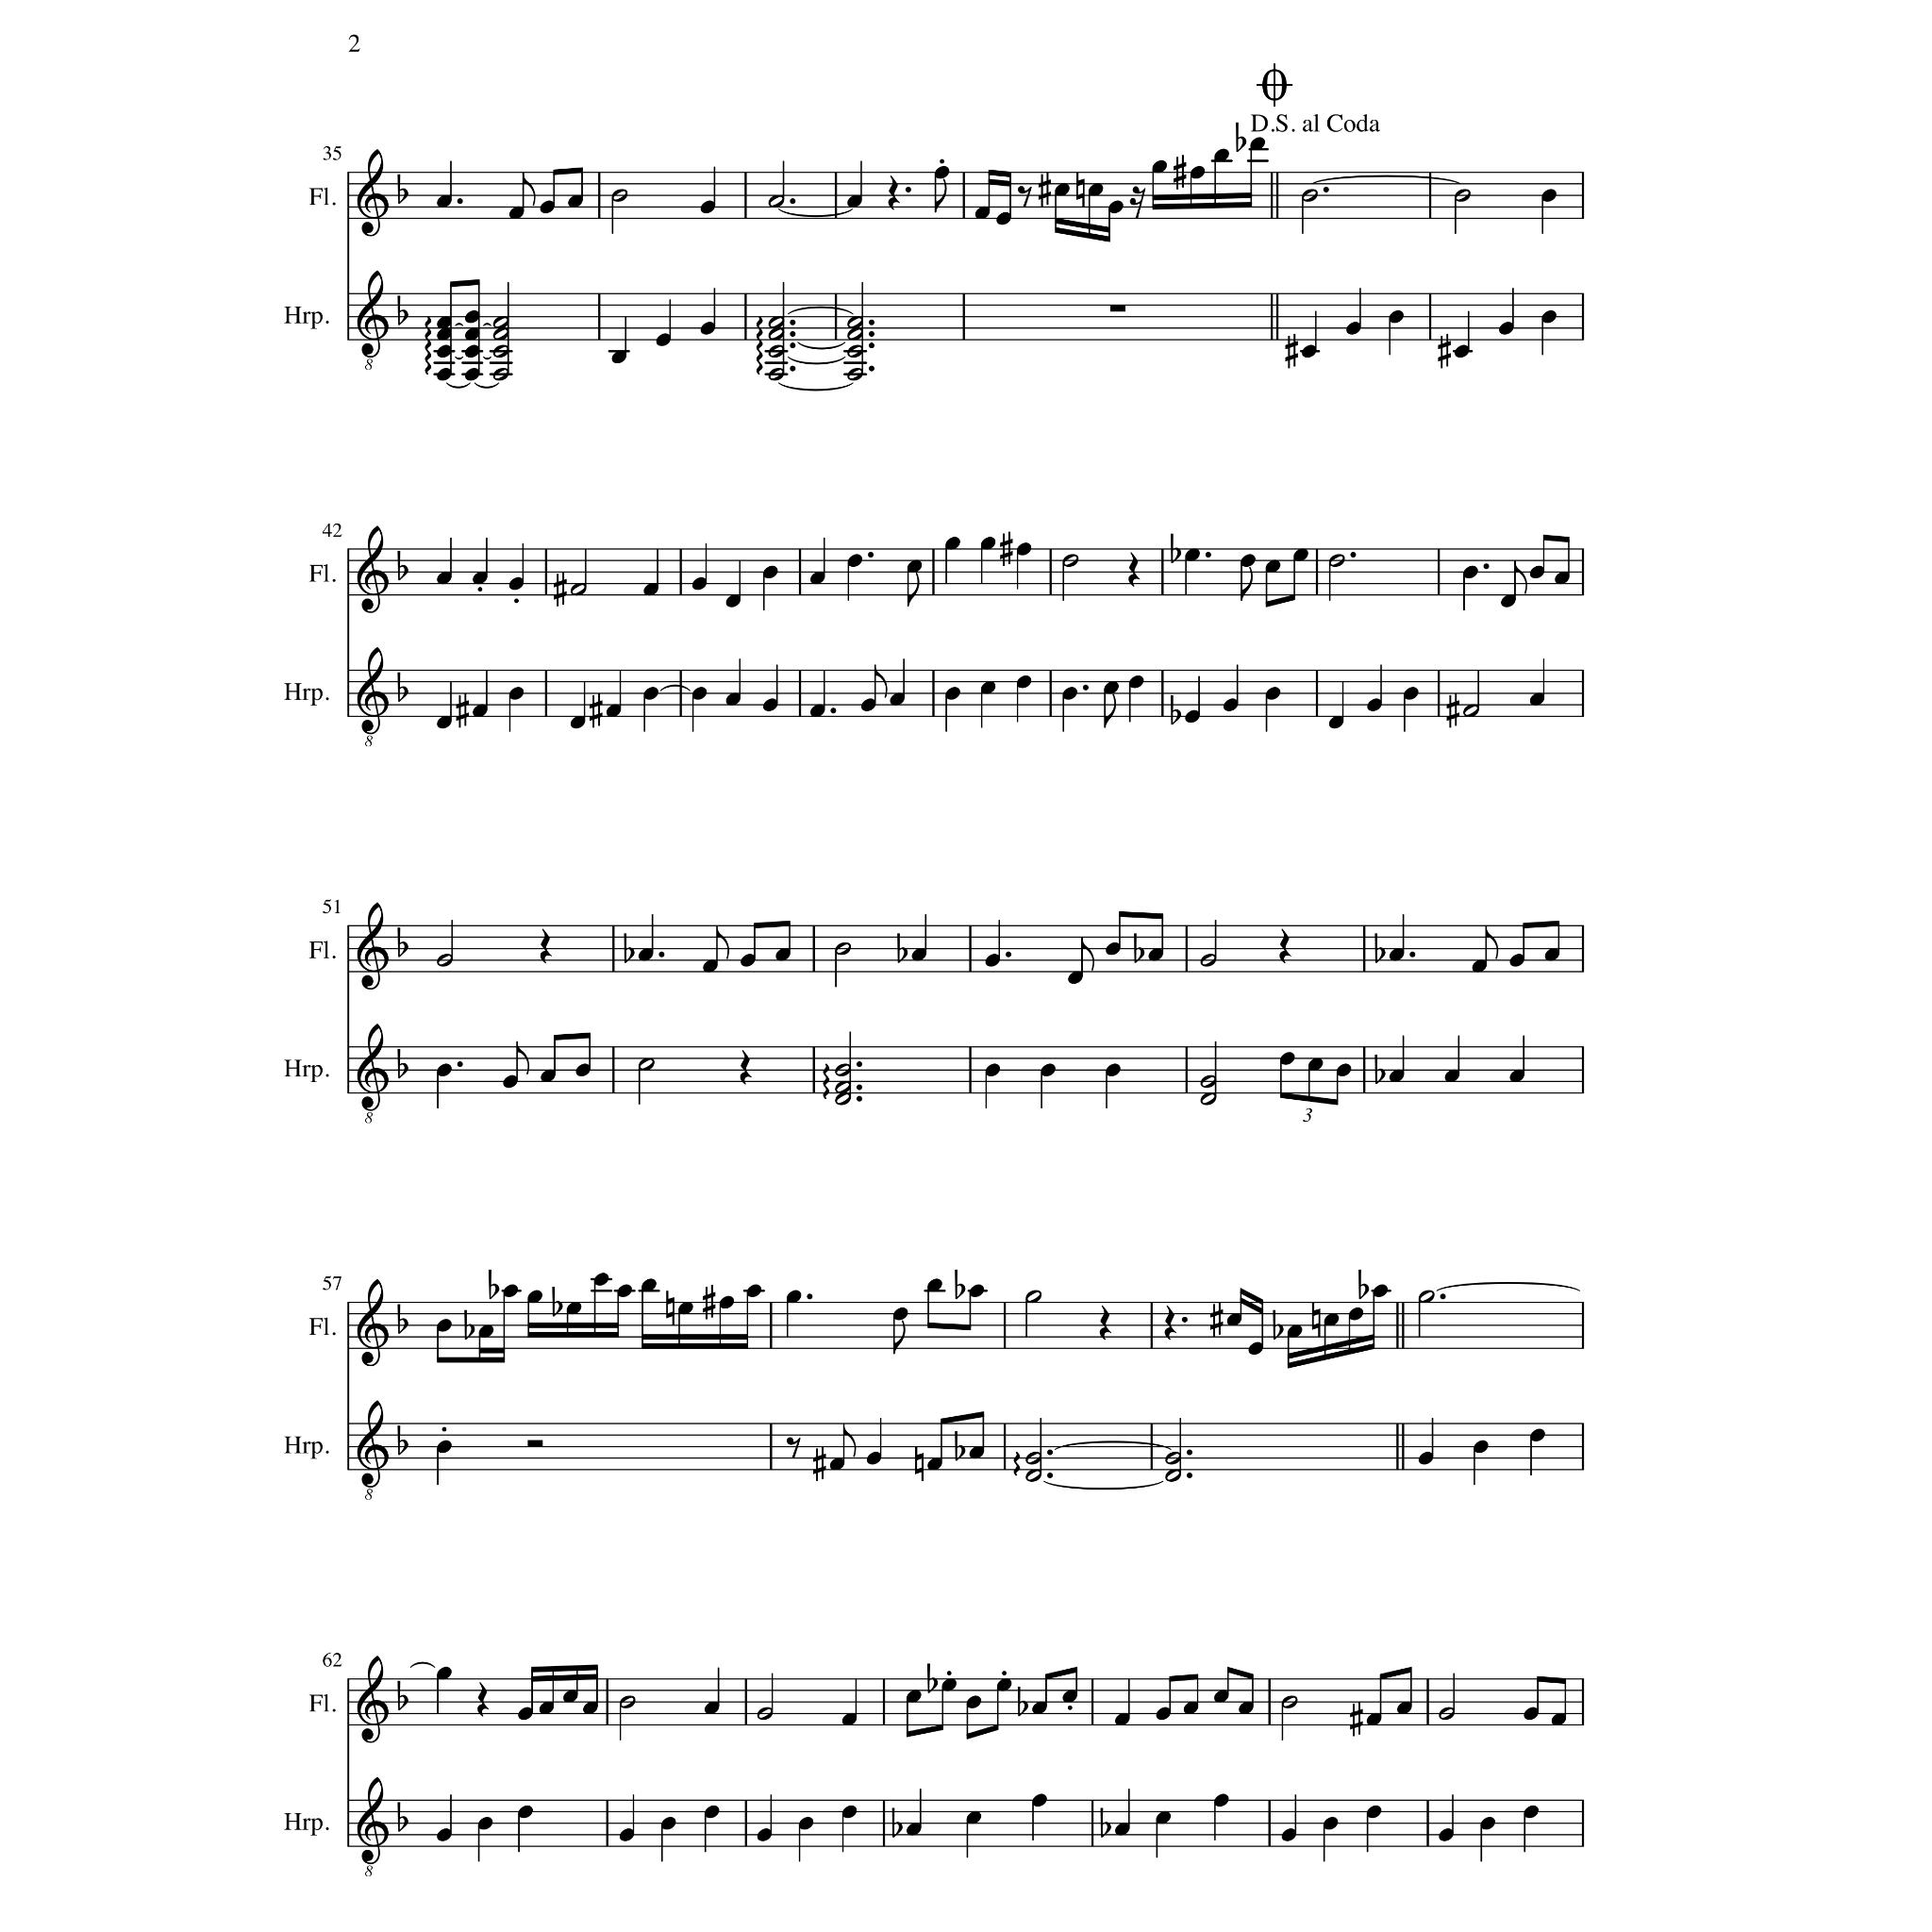flag8thDown: (934, 179, 947, 214), (1240, 566, 1253, 602), (1104, 694, 1116, 729), (893, 1320, 906, 1355), (908, 573, 920, 607)
flag8thUp: (522, 173, 536, 207), (874, 665, 888, 699), (1081, 938, 1095, 971), (1514, 561, 1527, 594), (1486, 927, 1499, 961), (517, 1042, 529, 1076), (717, 927, 729, 961), (844, 1424, 856, 1458)
gClef: (357, 269, 389, 359), (357, 1277, 389, 1368), (357, 149, 389, 237), (357, 646, 389, 734), (357, 525, 389, 614), (357, 902, 389, 991), (357, 1024, 389, 1113), (357, 1399, 389, 1488), (357, 1654, 389, 1743), (357, 1776, 389, 1865)
noteheadBlack: (1184, 548, 1201, 563), (1127, 676, 1145, 690), (1553, 571, 1571, 586), (1327, 715, 1345, 729), (616, 1284, 633, 1299), (745, 1284, 763, 1299), (1113, 1822, 1131, 1836), (1113, 1713, 1131, 1727), (517, 1707, 534, 1721), (1214, 149, 1230, 163), (1302, 345, 1318, 359), (1541, 310, 1557, 324), (1541, 189, 1557, 203), (1389, 310, 1405, 324), (1453, 345, 1468, 359), (610, 350, 626, 364), (568, 195, 584, 209), (437, 368, 453, 382), (437, 195, 453, 209), (437, 345, 453, 359), (464, 310, 479, 324), (464, 327, 479, 341), (464, 345, 479, 359), (464, 368, 479, 382), (437, 327, 453, 341), (847, 195, 863, 209), (980, 536, 996, 550), (1265, 686, 1281, 701), (1062, 686, 1077, 701), (1016, 541, 1031, 556), (1016, 676, 1031, 690), (1293, 548, 1309, 563), (1403, 686, 1419, 701), (605, 704, 621, 718), (570, 715, 586, 729), (692, 686, 708, 701), (692, 577, 708, 591), (642, 686, 658, 701), (642, 582, 658, 596), (437, 715, 453, 729), (437, 571, 453, 586), (508, 686, 524, 701), (508, 577, 524, 591), (472, 704, 488, 718), (472, 571, 488, 586), (945, 536, 961, 550), (945, 686, 961, 701), (809, 704, 824, 718), (809, 571, 824, 586), (1040, 1063, 1056, 1077), (1106, 1063, 1122, 1077), (1509, 954, 1525, 968), (1472, 959, 1488, 973), (1336, 1063, 1352, 1077), (575, 1063, 591, 1077), (702, 959, 718, 973), (502, 1076, 518, 1090), (437, 1063, 453, 1077), (984, 1063, 1000, 1077), (984, 954, 1000, 968), (740, 954, 755, 968), (968, 1445, 984, 1460), (1226, 1313, 1242, 1327), (1474, 1440, 1490, 1454), (1323, 1313, 1339, 1327), (1417, 1451, 1433, 1465), (1373, 1284, 1389, 1299), (968, 1284, 984, 1299), (640, 1277, 656, 1292), (593, 1272, 609, 1286), (502, 1284, 518, 1299), (437, 1440, 453, 1454), (437, 1318, 453, 1332), (865, 1451, 881, 1465), (927, 1277, 943, 1292), (1182, 1700, 1198, 1714), (1155, 1810, 1171, 1824), (1155, 1707, 1171, 1721), (1238, 1700, 1254, 1714), (1281, 1828, 1297, 1842), (1031, 1700, 1047, 1714), (1523, 1707, 1539, 1721), (1550, 1713, 1566, 1727), (1366, 1713, 1382, 1727), (1396, 1700, 1412, 1714), (1438, 1828, 1454, 1842), (619, 1828, 635, 1842), (582, 1700, 598, 1714), (538, 1700, 554, 1714), (704, 1700, 720, 1714), (437, 1667, 453, 1681), (437, 1828, 453, 1842), (906, 1822, 922, 1836), (840, 1713, 856, 1727), (966, 1810, 982, 1824), (755, 1828, 771, 1842), (1497, 322, 1514, 334), (1184, 711, 1201, 724), (517, 1806, 534, 1819), (1189, 166, 1205, 179), (1152, 161, 1168, 173), (975, 207, 991, 219), (1249, 138, 1265, 150), (996, 212, 1012, 225), (1088, 184, 1104, 196), (1054, 184, 1070, 196), (1346, 322, 1362, 334), (540, 202, 556, 214), (508, 207, 524, 219), (699, 322, 715, 334), (699, 202, 715, 214), (655, 334, 671, 347), (437, 317, 453, 329), (934, 166, 950, 179), (980, 681, 996, 694), (1265, 561, 1281, 573), (1240, 554, 1256, 566), (1223, 699, 1238, 711), (1104, 681, 1120, 694), (1529, 694, 1545, 706), (1529, 566, 1545, 579), (1500, 594, 1516, 607), (1461, 566, 1477, 579), (1366, 699, 1382, 711), (906, 561, 922, 573), (890, 694, 906, 706), (860, 699, 876, 711), (763, 566, 778, 579), (725, 694, 741, 706), (725, 594, 741, 607), (763, 699, 778, 711), (1279, 1053, 1295, 1065), (1307, 1058, 1323, 1070), (1067, 971, 1083, 984), (1148, 948, 1164, 961), (1106, 943, 1122, 955), (1545, 948, 1560, 961), (1509, 1070, 1525, 1083), (1389, 1070, 1405, 1083), (1389, 948, 1405, 961), (1444, 1070, 1460, 1083), (637, 948, 653, 961), (540, 1070, 556, 1083), (911, 948, 927, 961), (775, 948, 791, 961), (1247, 1343, 1263, 1355), (1530, 1430, 1546, 1442), (1348, 1307, 1364, 1320), (1286, 1325, 1302, 1338), (566, 1302, 582, 1315), (527, 1290, 543, 1302), (678, 1302, 694, 1315), (478, 1325, 494, 1338), (828, 1458, 844, 1470), (927, 1458, 943, 1470), (892, 1307, 908, 1320), (786, 1290, 801, 1302), (718, 1297, 734, 1309), (1214, 1794, 1230, 1806), (1214, 1690, 1230, 1702), (1031, 1794, 1047, 1806), (1062, 1690, 1077, 1702), (996, 1679, 1012, 1691), (1523, 1806, 1539, 1819), (1479, 1817, 1495, 1829), (1322, 1817, 1338, 1829), (1366, 1806, 1382, 1819), (563, 1690, 579, 1702), (704, 1806, 720, 1819), (660, 1817, 676, 1829), (478, 1817, 494, 1829), (906, 1690, 922, 1702), (840, 1806, 856, 1819), (966, 1697, 982, 1709), (941, 1679, 957, 1691), (798, 1817, 814, 1829), (1109, 202, 1123, 214), (847, 554, 862, 566)
noteheadHalf: (1300, 189, 1318, 203), (610, 189, 628, 203), (492, 345, 510, 359), (492, 368, 510, 382), (846, 345, 863, 359), (846, 368, 863, 382), (768, 345, 786, 359), (768, 368, 786, 382), (768, 195, 786, 209), (1461, 704, 1479, 718), (570, 582, 587, 596), (1200, 1076, 1217, 1090), (1200, 954, 1217, 968), (1200, 1092, 1217, 1106), (435, 954, 453, 968), (833, 1092, 851, 1106), (833, 1081, 851, 1095), (833, 1063, 851, 1077), (1164, 1468, 1182, 1483), (1024, 1468, 1042, 1483), (1454, 189, 1470, 203), (1438, 1707, 1454, 1721), (757, 1707, 773, 1721), (492, 317, 510, 329), (492, 329, 510, 341), (846, 329, 863, 341), (846, 317, 863, 329), (768, 317, 786, 329), (768, 329, 786, 341), (1062, 554, 1079, 566), (637, 1058, 655, 1070), (833, 943, 851, 955), (1164, 1453, 1182, 1465), (1024, 1453, 1042, 1465), (1024, 1290, 1042, 1302), (1417, 1290, 1435, 1302), (1281, 1697, 1299, 1709), (1329, 554, 1345, 566), (619, 1697, 635, 1709)
rest16th: (1129, 186, 1146, 219)
rest8th: (786, 1437, 801, 1460), (1017, 186, 1031, 209)
restHalf: (527, 1440, 543, 1447)
restQuarter: (740, 1049, 752, 1086), (1164, 1304, 1177, 1341), (1099, 1304, 1111, 1341), (886, 175, 899, 211), (1127, 552, 1139, 587), (1279, 929, 1292, 964), (540, 929, 552, 964), (478, 1681, 488, 1716)
restWhole: (1109, 304, 1125, 311)
